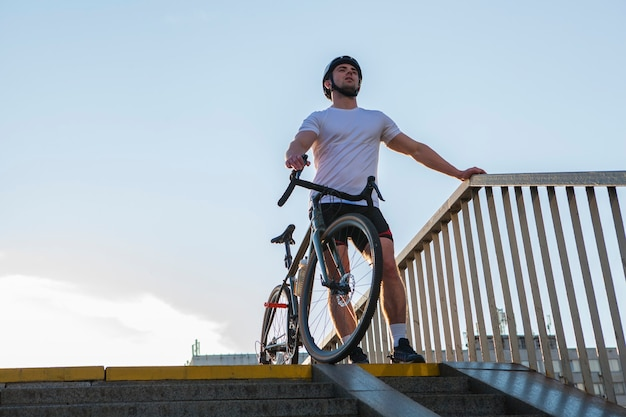helmet: (321, 56, 363, 100)
